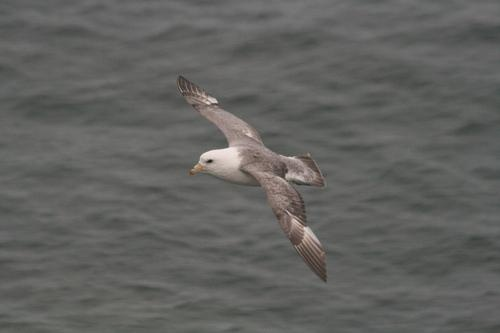bird: (173, 76, 336, 283)
